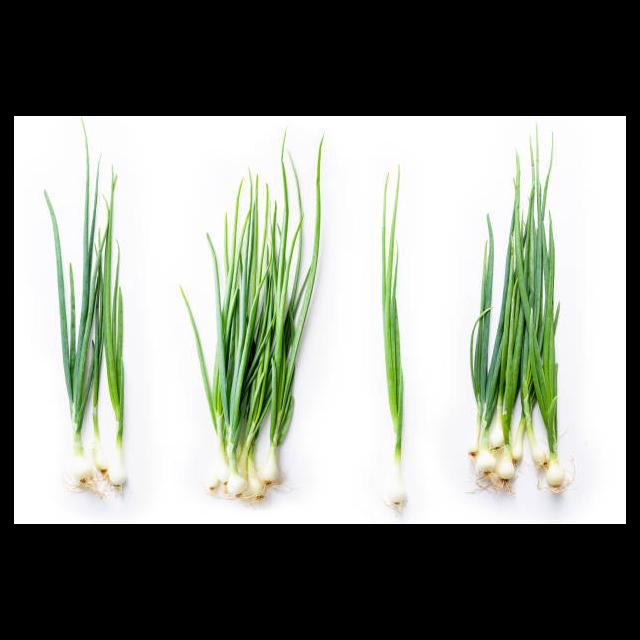green_onion: (171, 128, 318, 511), (39, 125, 145, 500), (476, 136, 575, 501), (374, 155, 421, 514)
